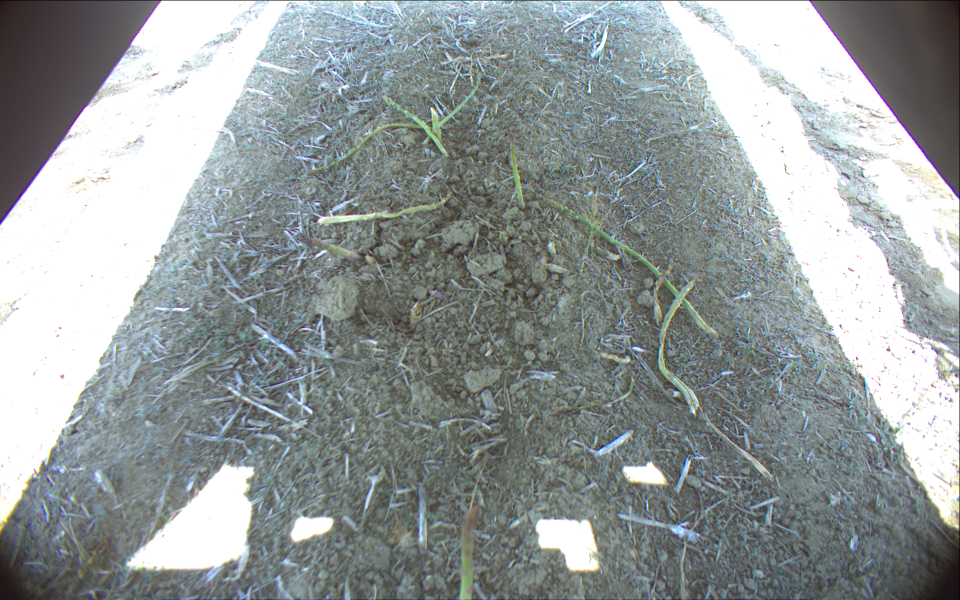aspa: (543, 198, 716, 337), (305, 122, 426, 176), (657, 282, 700, 414), (380, 97, 447, 158), (438, 68, 483, 131), (455, 504, 480, 600), (295, 232, 362, 263), (507, 132, 525, 212), (429, 106, 441, 136)
